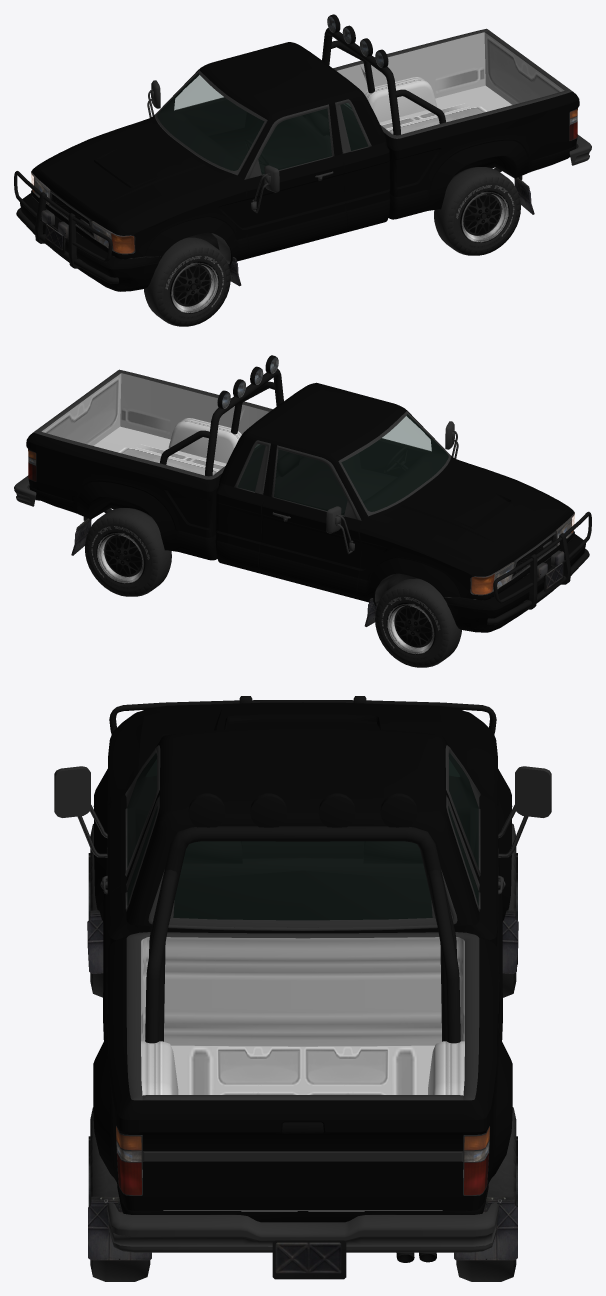
3 renders of one model, top to bottom at view 1: azimuth 30°, elevation 25°; view 2: azimuth 150°, elevation 25°; view 3: azimuth 270°, elevation 25°, orthographic. The views are drawn at different scales.
Parts seen in each view (by area): view 1: body_krm_lgtbdy_body_0, hood_krm_lgtbdy_body_0, glass_krm_lgtbdy_glass_0, bottom_krm_lgtbdy_doorshut_0, interior_krm_lgtbdy_void_0, fenders_krm_lgtbdy_body_0, WHEEL_02, WHEEL_01, plastic_trim_krm_lgtbdy_plastic_0, trunk_door_krm_lgtbdy_doorshut_0, bumper_front_1_krm_lgtbdy_body_0, bumper_bars_krm_lgtbdy_rollcage_0 (+9 smaller); view 2: body_krm_lgtbdy_body_0, hood_krm_lgtbdy_body_0, glass_krm_lgtbdy_glass_0, bottom_krm_lgtbdy_doorshut_0, interior_krm_lgtbdy_void_0, fenders_krm_lgtbdy_body_0, WHEEL_03, WHEEL_04, plastic_trim_krm_lgtbdy_plastic_0, trunk_door_krm_lgtbdy_doorshut_0, bumper_front_1_krm_lgtbdy_body_0, bumper_bars_krm_lgtbdy_rollcage_0 (+9 smaller); view 3: body_krm_lgtbdy_body_0, bottom_krm_lgtbdy_doorshut_0, trunk_door_krm_lgtbdy_body_0, interior_krm_lgtbdy_void_0, glass_krm_lgtbdy_glass_0, bumper_rear_02_krm_lgtbdy_plastic_0, rollcage_krm_lgtbdy_rollcage_0, fenders_krm_lgtbdy_body_0, body_krm_lgtbdy_plastic_0, plastic_trim_krm_lgtbdy_plastic_0, hood_krm_lgtbdy_body_0, mdflps_krm_lgtbdy_bottom_0 (+10 smaller).
Boxes of the visible parts, box(x1,y1,x2,y2) form: body_krm_lgtbdy_body_0: box(152, 42, 579, 258); hood_krm_lgtbdy_body_0: box(38, 122, 221, 228); glass_krm_lgtbdy_glass_0: box(157, 73, 367, 174); bottom_krm_lgtbdy_doorshut_0: box(337, 32, 511, 134); interior_krm_lgtbdy_void_0: box(157, 73, 368, 174); fenders_krm_lgtbdy_body_0: box(31, 115, 248, 264); WHEEL_02: box(434, 167, 520, 255); WHEEL_01: box(144, 237, 230, 326); plastic_trim_krm_lgtbdy_plastic_0: box(147, 70, 371, 212); trunk_door_krm_lgtbdy_doorshut_0: box(484, 32, 564, 104); bumper_front_1_krm_lgtbdy_body_0: box(20, 193, 162, 291); bumper_bars_krm_lgtbdy_rollcage_0: box(14, 171, 118, 283); body_krm_lgtbdy_body_0: box(26, 382, 453, 599); hood_krm_lgtbdy_body_0: box(384, 463, 567, 569); glass_krm_lgtbdy_glass_0: box(238, 414, 448, 515); bottom_krm_lgtbdy_doorshut_0: box(94, 373, 268, 475); interior_krm_lgtbdy_void_0: box(237, 414, 448, 515); fenders_krm_lgtbdy_body_0: box(357, 456, 574, 605); WHEEL_03: box(85, 508, 171, 596); WHEEL_04: box(375, 578, 461, 667); plastic_trim_krm_lgtbdy_plastic_0: box(234, 411, 458, 553); trunk_door_krm_lgtbdy_doorshut_0: box(41, 373, 121, 445); bumper_front_1_krm_lgtbdy_body_0: box(443, 534, 585, 632); bumper_bars_krm_lgtbdy_rollcage_0: box(487, 511, 591, 624); body_krm_lgtbdy_body_0: box(93, 727, 512, 1222); bottom_krm_lgtbdy_doorshut_0: box(141, 937, 464, 1211); trunk_door_krm_lgtbdy_body_0: box(142, 1100, 463, 1210); interior_krm_lgtbdy_void_0: box(127, 753, 478, 920); glass_krm_lgtbdy_glass_0: box(127, 753, 478, 919); bumper_rear_02_krm_lgtbdy_plastic_0: box(107, 1202, 498, 1252); rollcage_krm_lgtbdy_rollcage_0: box(145, 826, 460, 1043); fenders_krm_lgtbdy_body_0: box(94, 705, 511, 921); body_krm_lgtbdy_plastic_0: box(126, 870, 479, 1100); plastic_trim_krm_lgtbdy_plastic_0: box(54, 745, 551, 911); hood_krm_lgtbdy_body_0: box(162, 702, 443, 736); mdflps_krm_lgtbdy_bottom_0: box(87, 910, 518, 1260).
Size of the model in its own units: 194 by 76.07 by 84.29.
18 materials, 10 textured.
